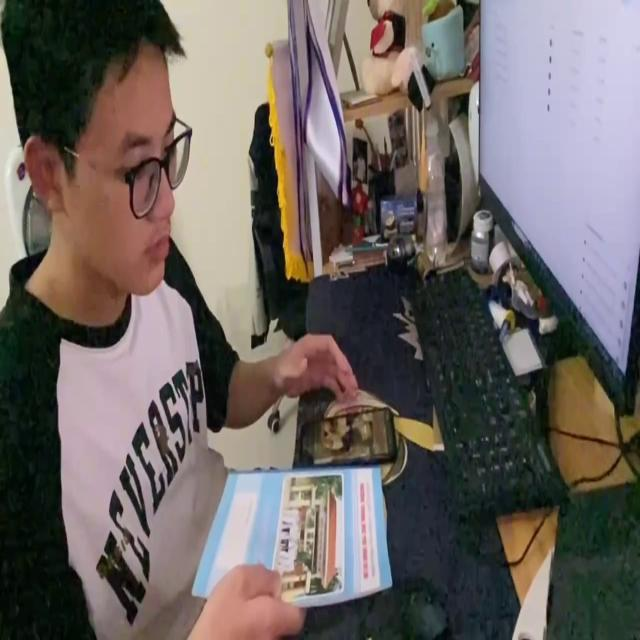book: (188, 460, 388, 622)
laptop: (474, 0, 640, 419)
phone: (294, 404, 399, 466)
student: (1, 0, 358, 640)
